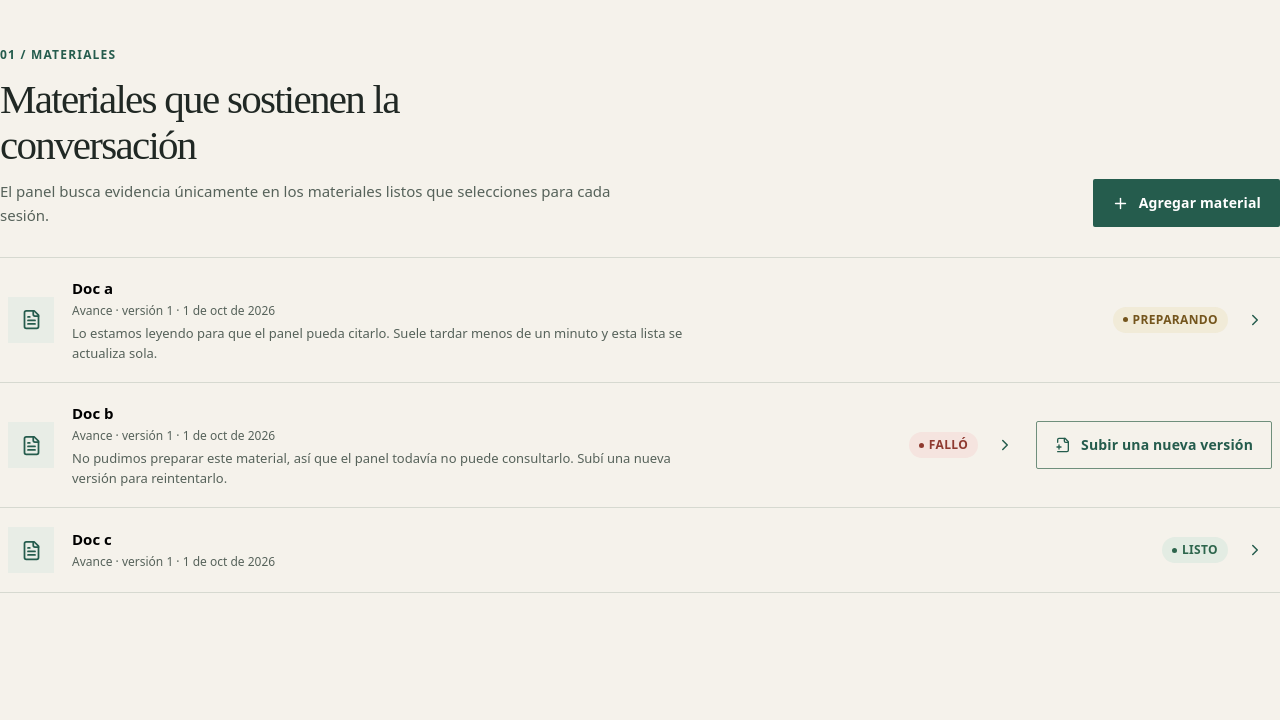
Test case: cambios sin guardar y estados › explica los materiales que se preparan o fallaron y ofrece subir una nueva versión
Expected: the text "Lo estamos leyendo para que el panel pueda citarlo" is shown, [72,324,682,362]
Expected: the text "No pudimos preparar este material" is shown, [72,449,671,487]
Click the button "Subir una nueva versión" at {"x": 1154, "y": 445}, box [1036,421,1272,469]
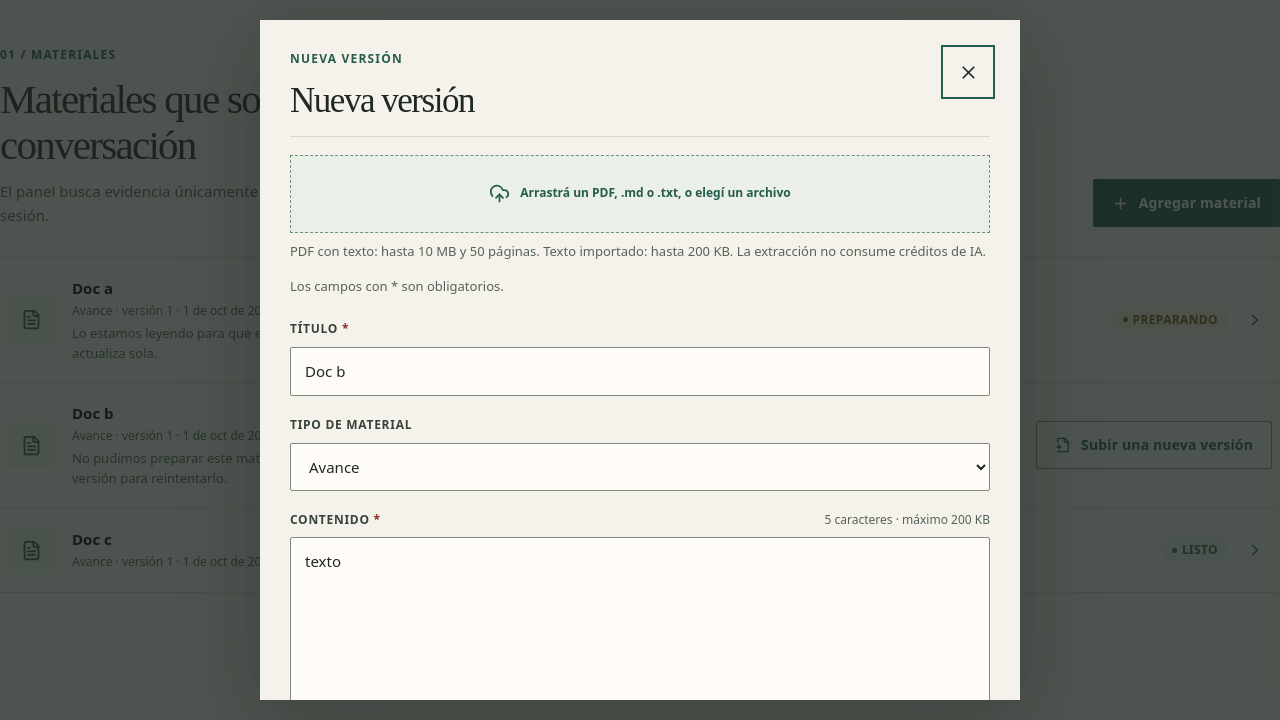
Expected: the dialog "NUEVA VERSIÓN" is shown, [260,20,1020,700]
Expected: the field labelled "Título" holds "Doc b", [290,347,990,396]
